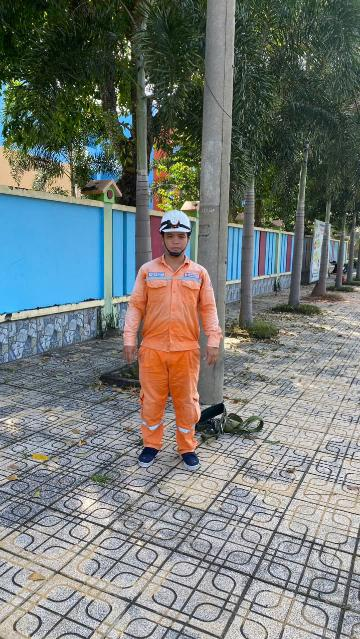harness: (189, 401, 267, 446)
helmet: (152, 204, 201, 237)
shoes: (130, 440, 166, 471), (176, 445, 211, 476)
